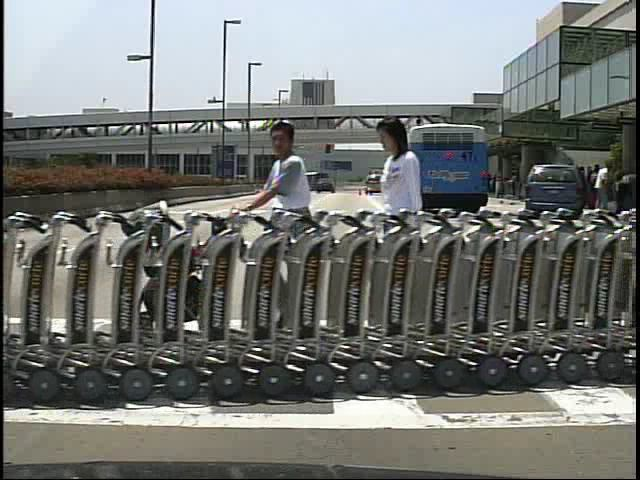person: (239, 120, 329, 354), (372, 116, 438, 343), (594, 162, 615, 212), (588, 163, 603, 214)
